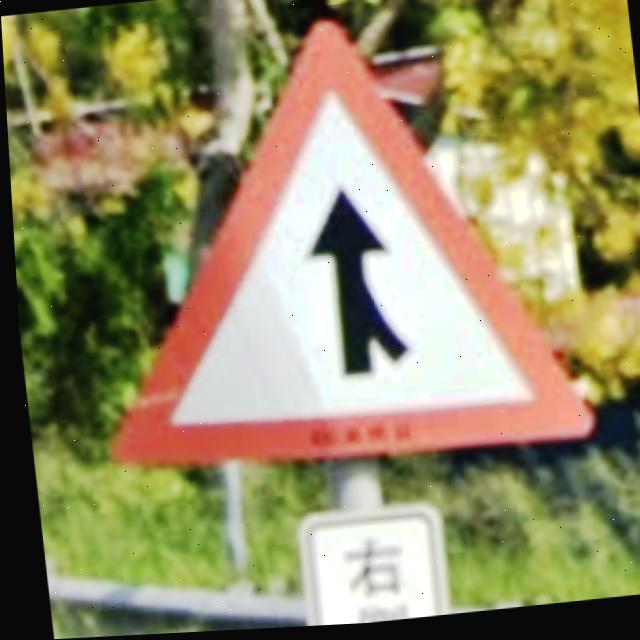rightmerge: (106, 23, 591, 469)
